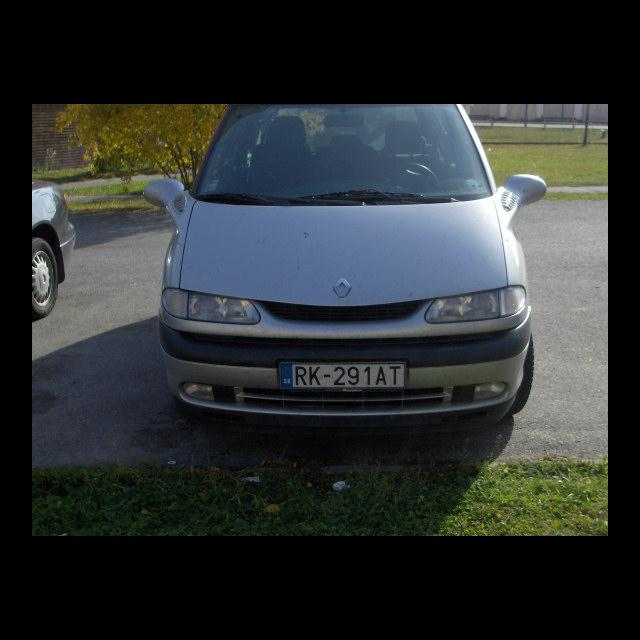Plate: (277, 358, 407, 391)
